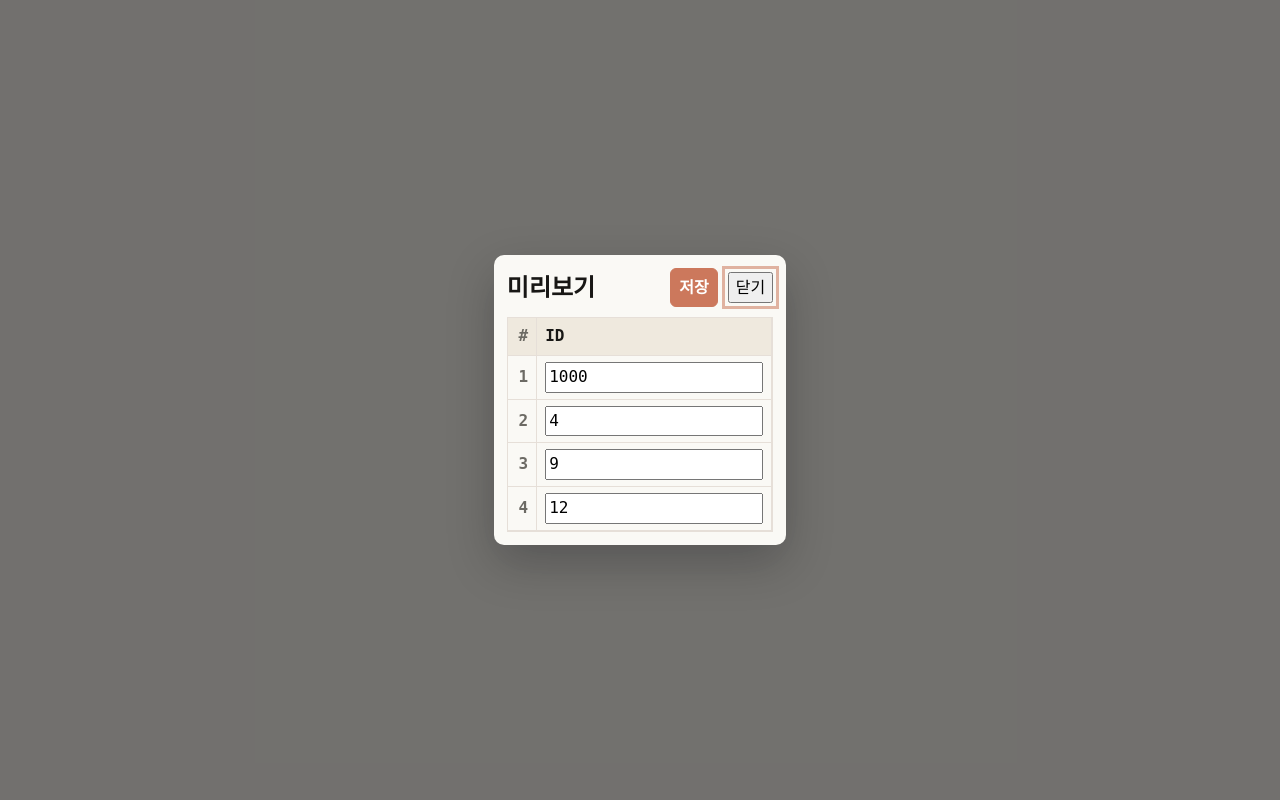
Test case: fills the rows below a numeric header's first value after confirmation
The image size is (1280, 800).
Double-click the column heading "ID".
double_click(654, 337)  # box [537, 318, 772, 355]
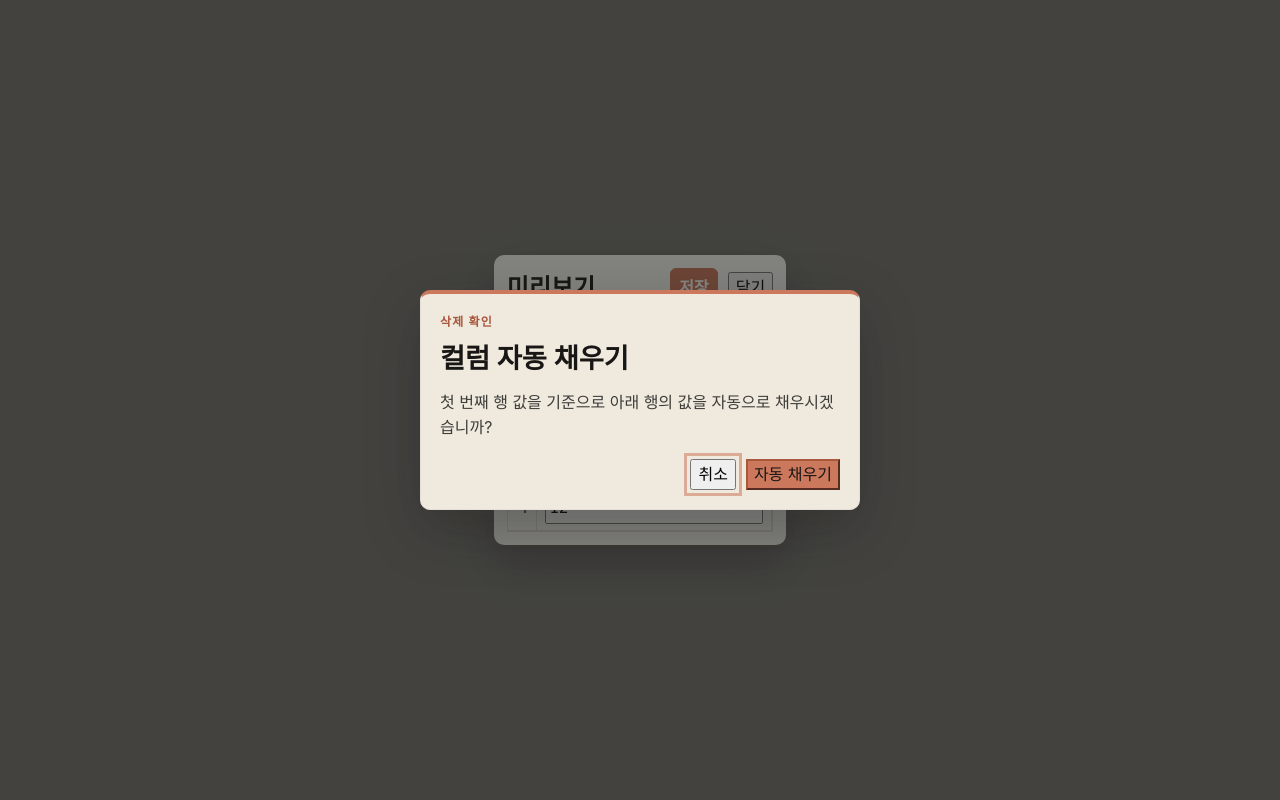
expect the dialog "컬럼 자동 채우기" is shown: met, box [420, 290, 860, 510]
Click the button "자동 채우기".
click(793, 474)  # box [746, 459, 840, 490]
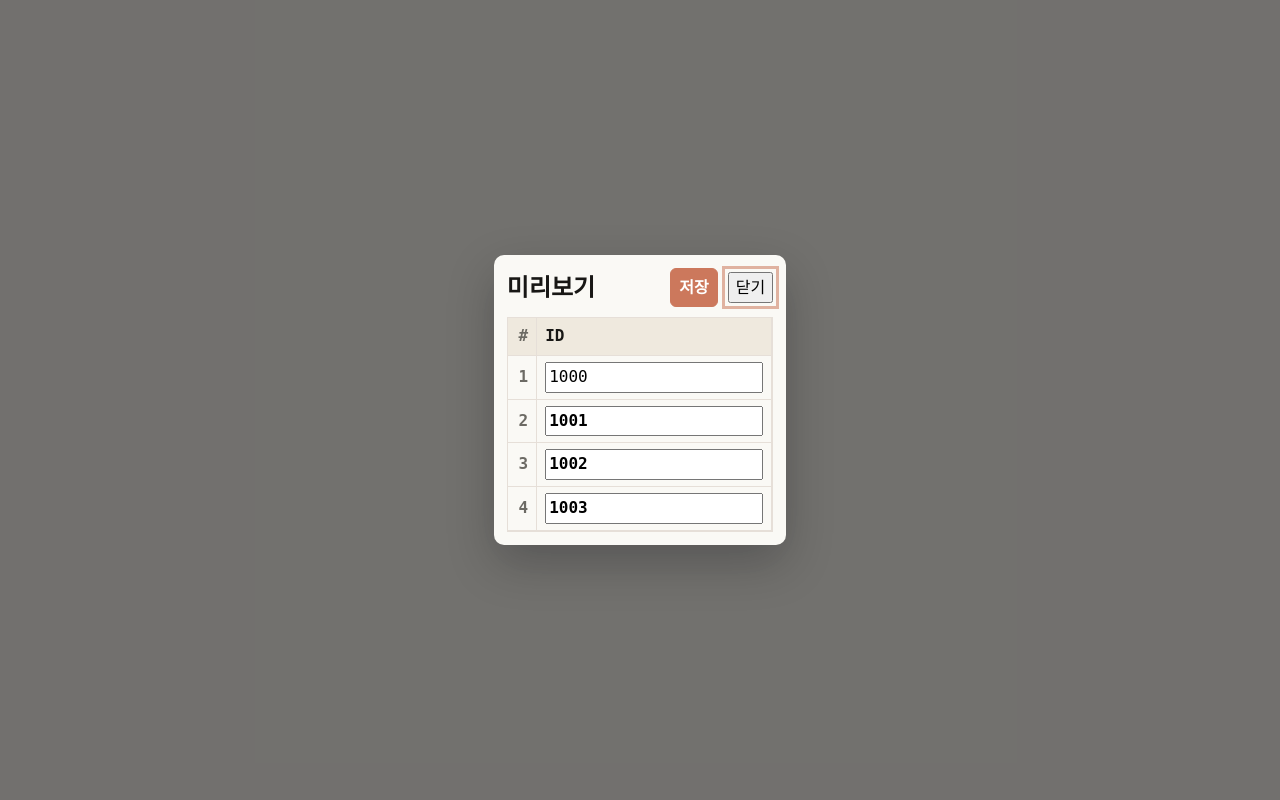
expect the field named "ID row 2" holds "1001": met, box [545, 406, 763, 436]
expect the field named "ID row 3" holds "1002": met, box [545, 449, 763, 480]
expect the field named "ID row 4" holds "1003": met, box [545, 493, 763, 524]
